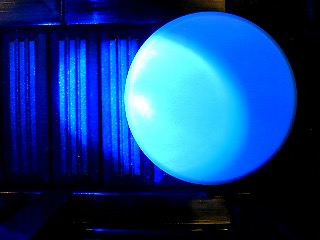BLANK: (124, 11, 297, 185)
